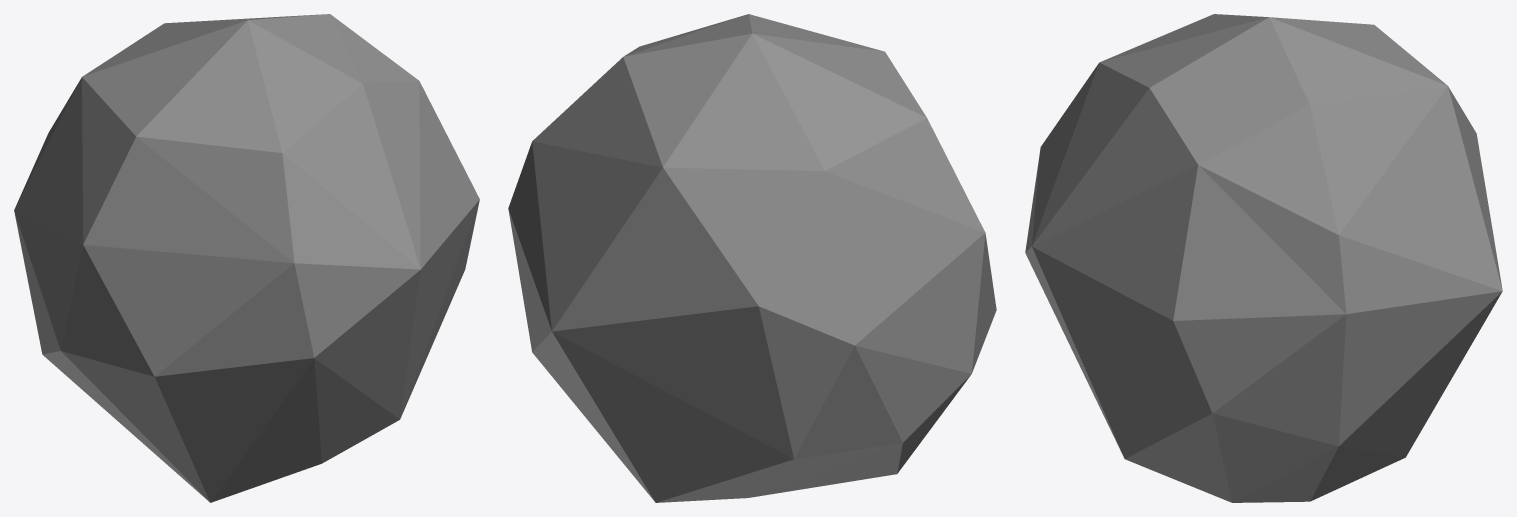
The model's file is Boulder 3.fbx.
3 renders of one model, left to right at view 1: azimuth 30°, elevation 25°; view 2: azimuth 150°, elevation 25°; view 3: azimuth 270°, elevation 25°, orthographic. The views are drawn at different scales.
Parts seen in each view (by area): view 1: Boulder_3; view 2: Boulder_3; view 3: Boulder_3.
Boxes of the visible parts, x1,y1,x2,y2 form: Boulder_3: [14, 14, 479, 502]; Boulder_3: [508, 14, 996, 502]; Boulder_3: [1025, 14, 1502, 502].
Size of the model in its own units: 214 by 228 by 213.
Materials: 1 (1 with a texture image).
